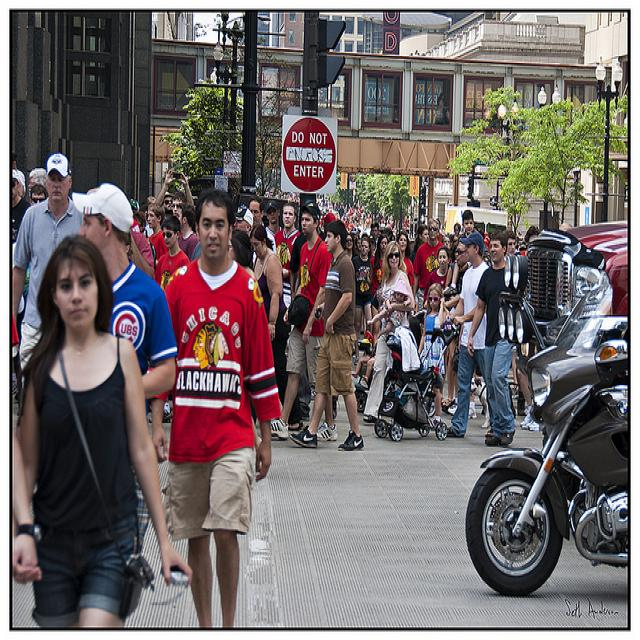motor: (464, 343, 632, 595)
